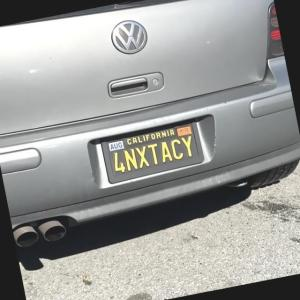Plate: (100, 117, 206, 185)
